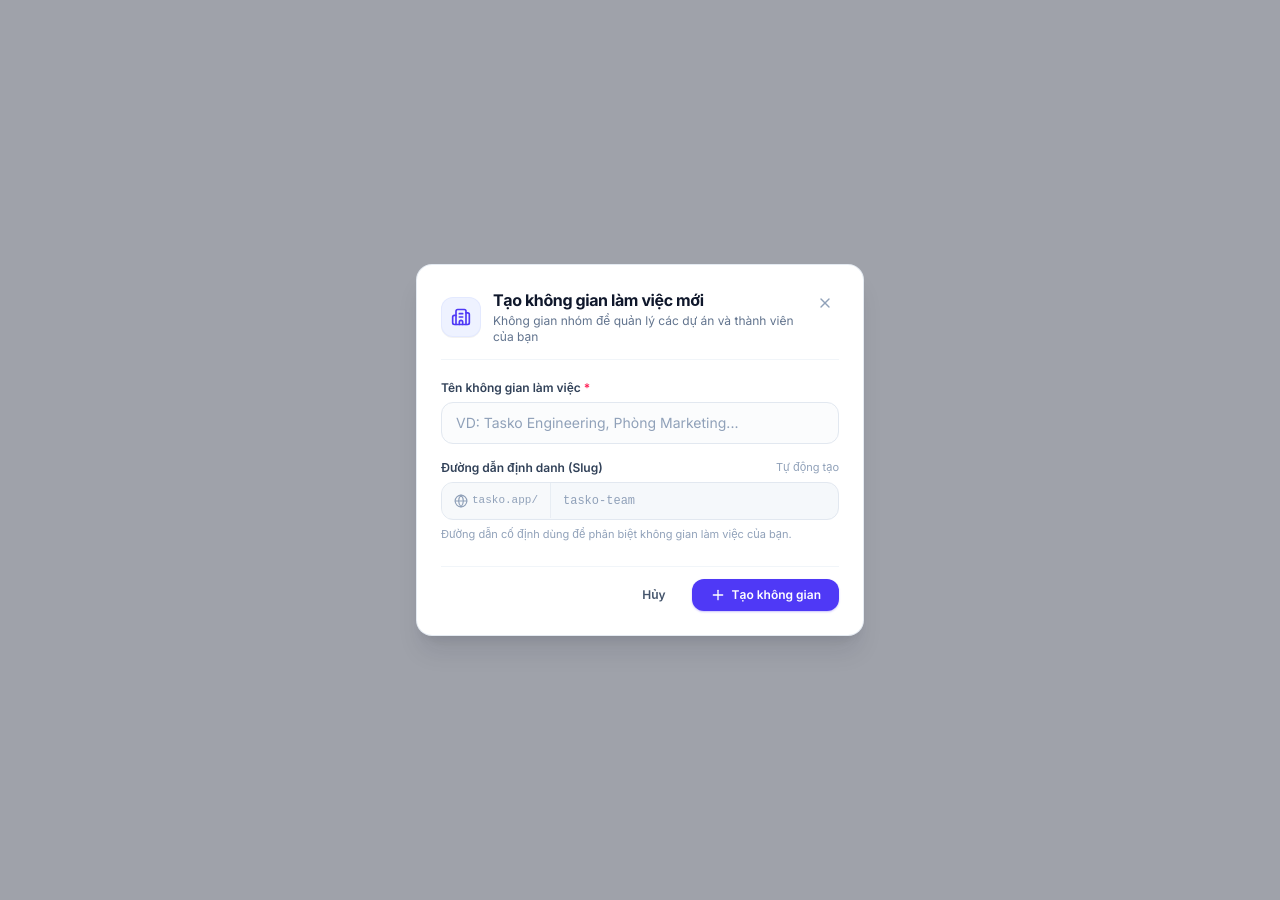
CreateWorkspaceModal - Frontend Unit Tests › An toàn: Hiển thị thông báo lỗi mặc định thân thiện khi backend ném lỗi không xác định (non-Error object)
Type "Crash WS" into the field with placeholder "VD: Tasko Engineering, Phòng Marketing..." at (640, 423), box [441,402,839,444]
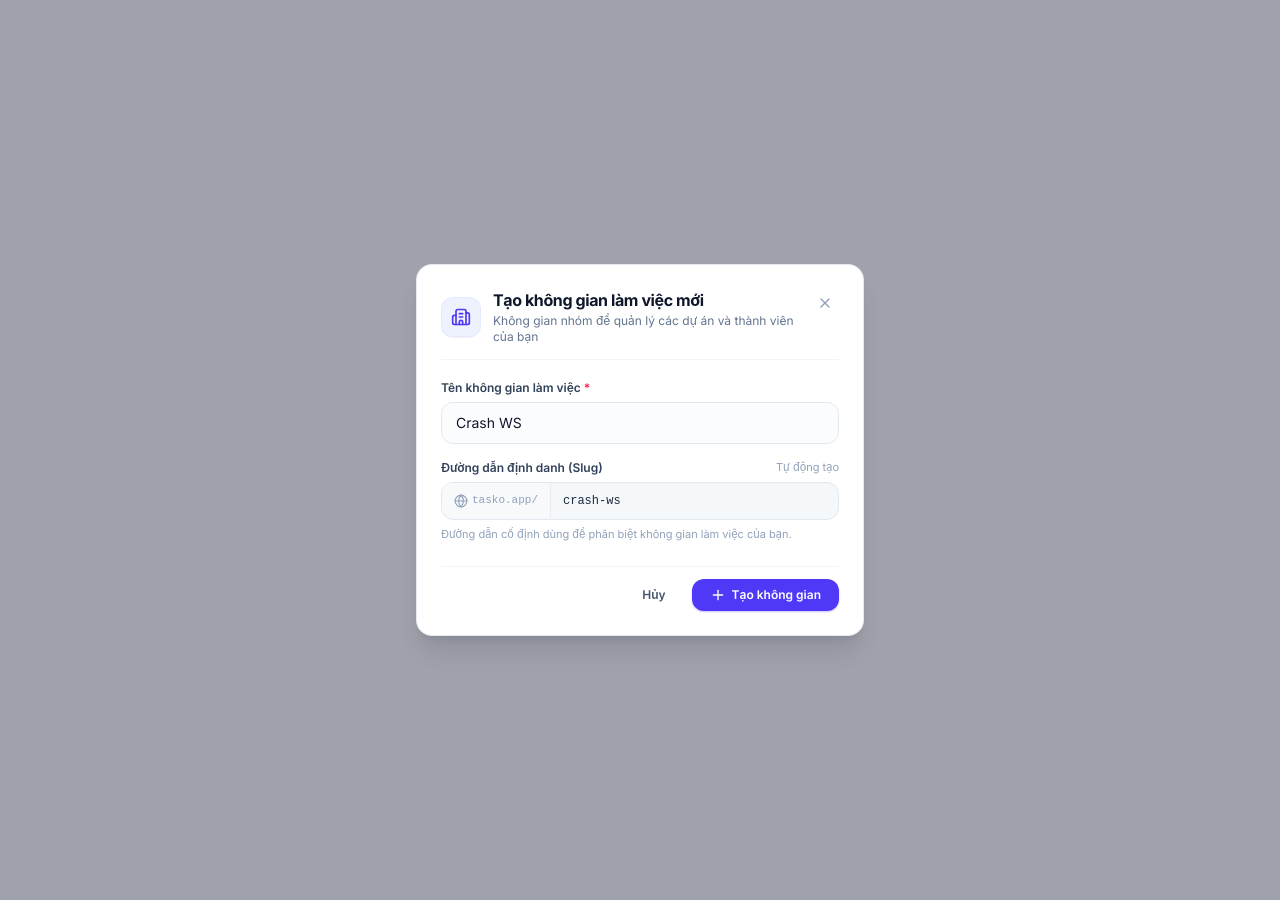
Click the button "Tạo không gian" at (765, 595), box [692,579,839,611]
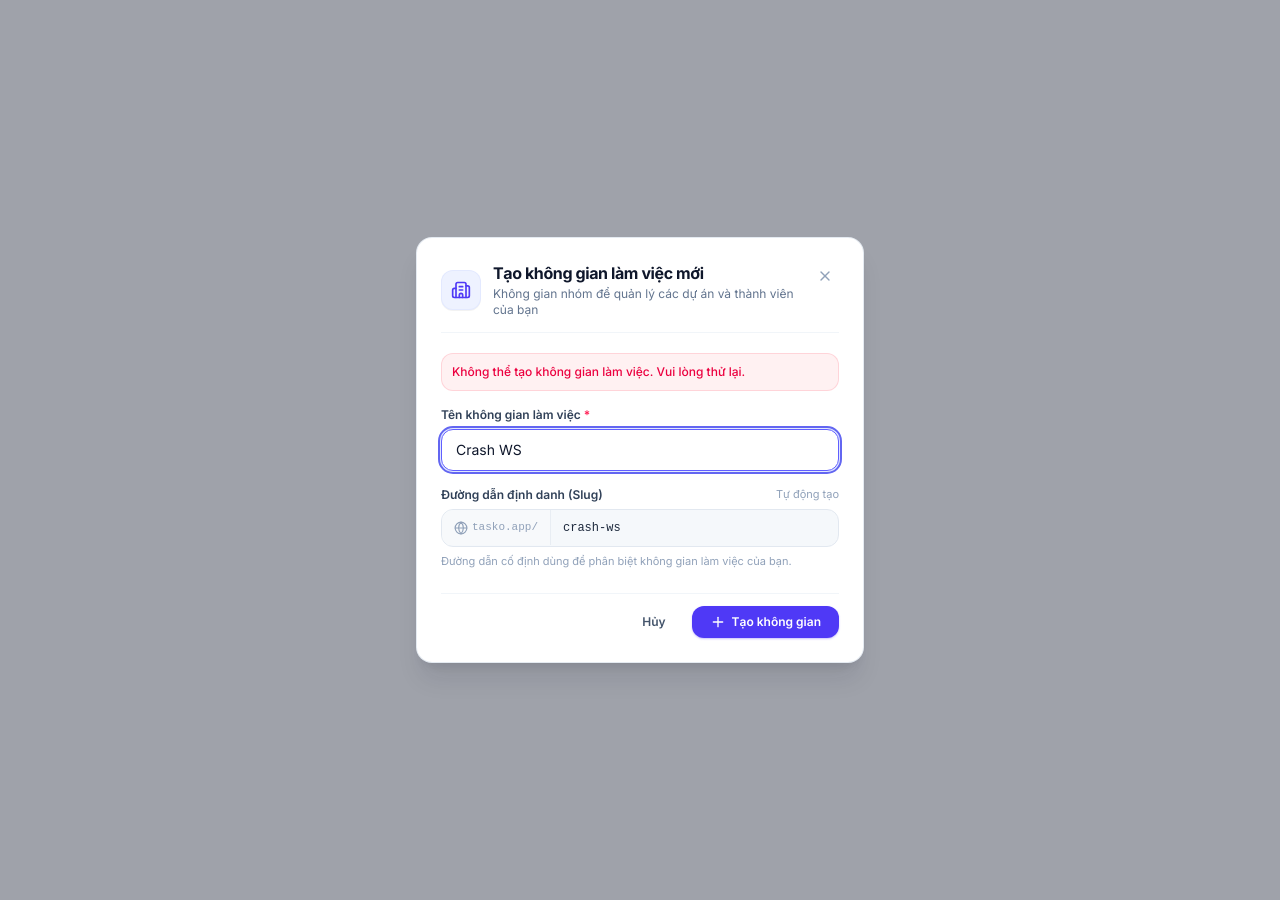
expect the text "Không thể tạo không gian làm việc. Vui lòng thử lại." is shown: met, box [441,353,839,391]
